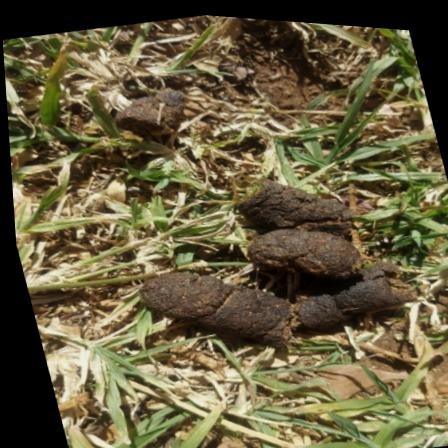dog-poop: (127, 156, 394, 363), (107, 69, 195, 141)
